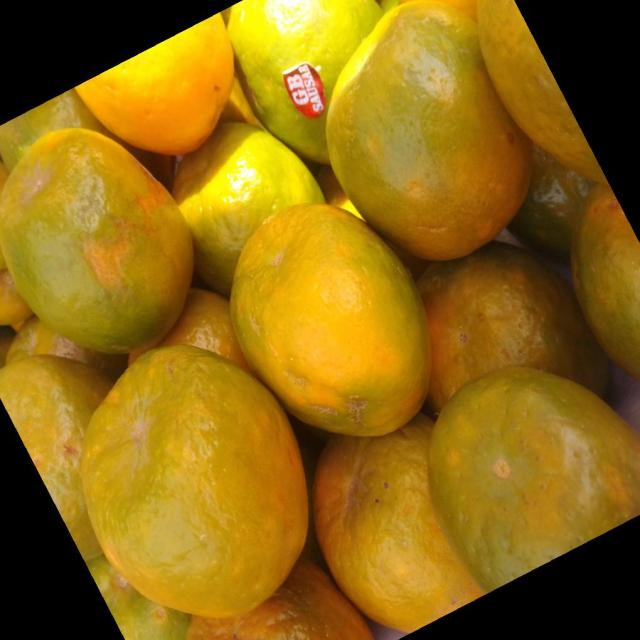fresh orange: (1, 1, 638, 636), (78, 343, 309, 618), (414, 364, 640, 604), (324, 1, 532, 260), (228, 201, 432, 436), (288, 417, 502, 632), (1, 129, 193, 354), (478, 0, 615, 191), (1, 354, 120, 570), (175, 124, 322, 296), (230, 2, 386, 164), (74, 11, 234, 156), (132, 288, 255, 383)
